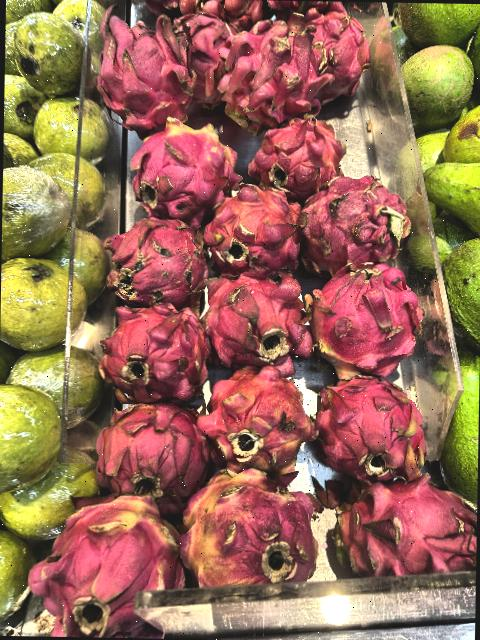buah-naga-belum-matang: (46, 491, 191, 639), (168, 466, 320, 592), (306, 266, 424, 382), (199, 370, 314, 478), (130, 116, 236, 224), (228, 20, 333, 120), (204, 190, 303, 272)
buah-naga-matang: (326, 469, 477, 589), (87, 10, 206, 135), (307, 363, 428, 477), (93, 402, 210, 508), (198, 268, 316, 364), (97, 308, 210, 402), (302, 178, 413, 268), (108, 222, 212, 304), (308, 10, 387, 100), (255, 126, 348, 194)
